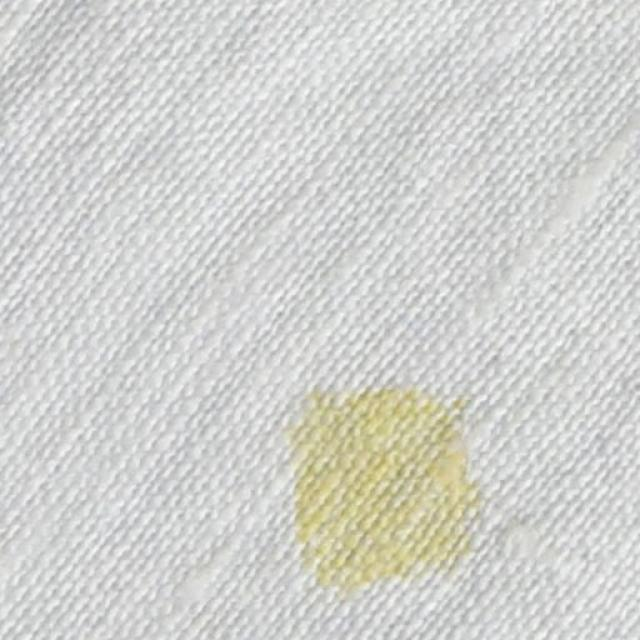Stain: (274, 384, 474, 591)
